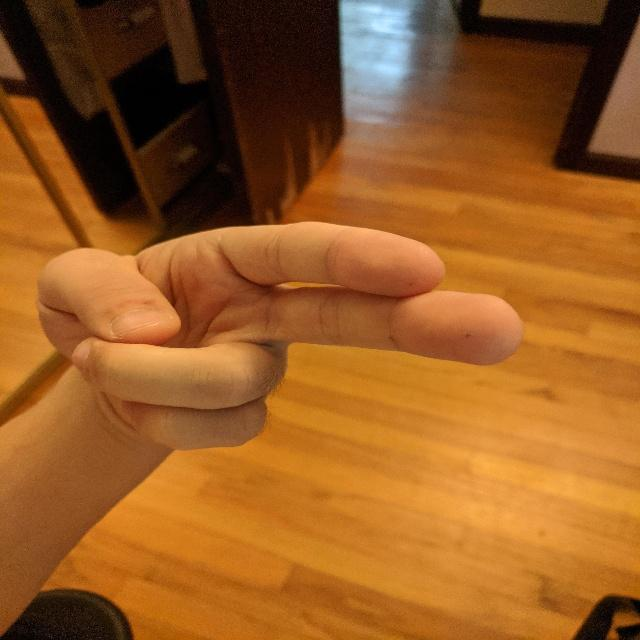H: (30, 215, 534, 456)
